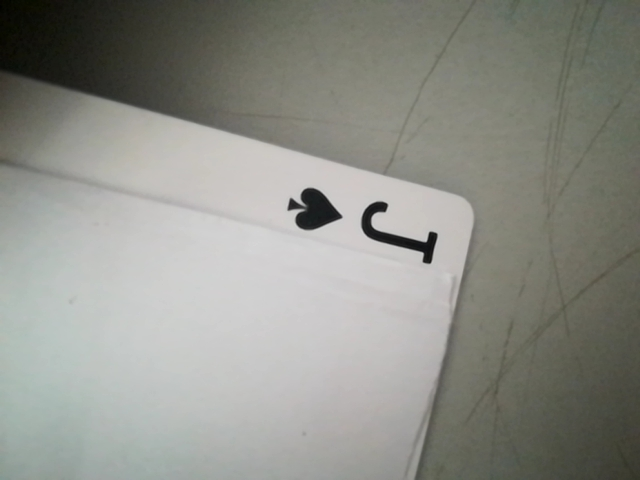ht j: (272, 181, 459, 259)
